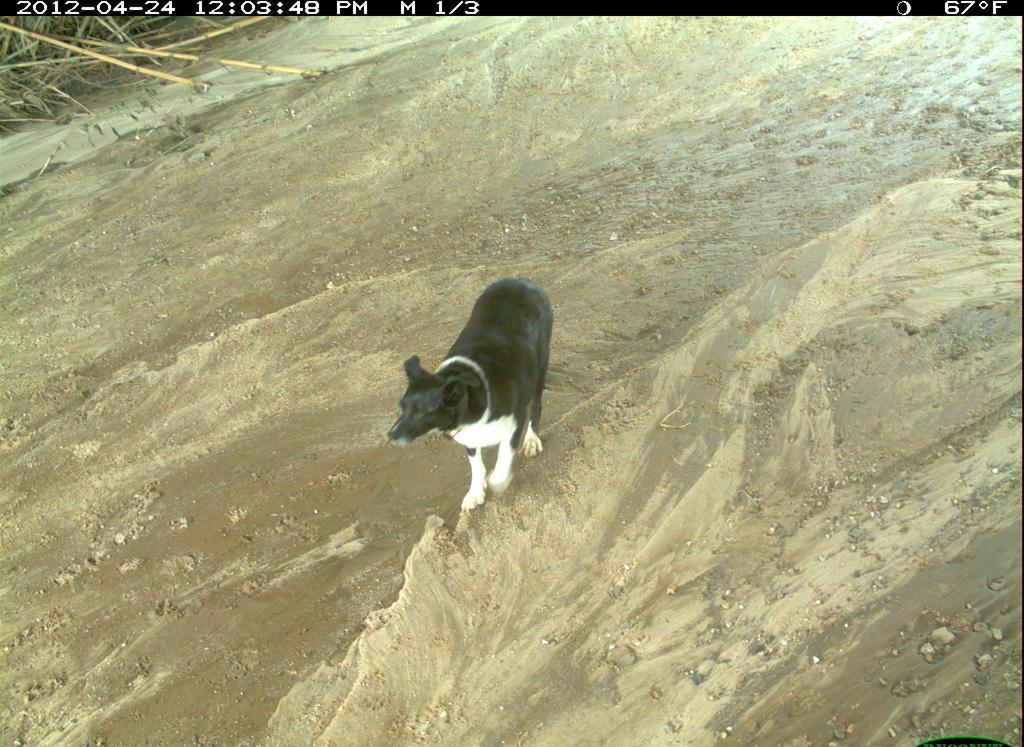dog: (764, 549, 1024, 747)
